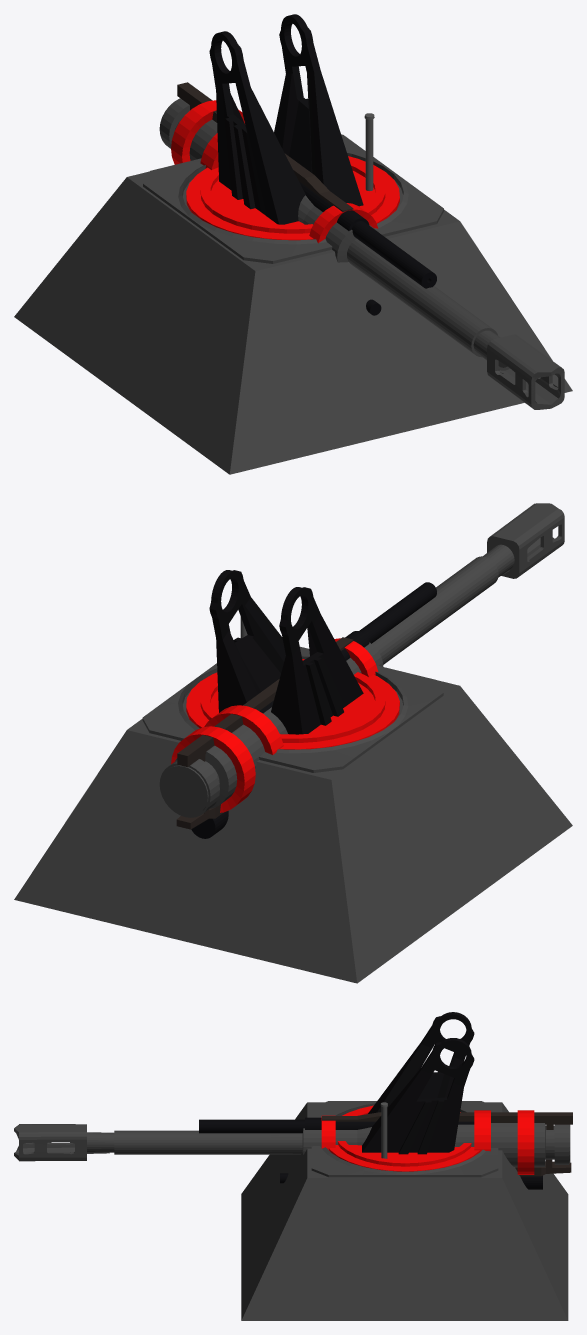
File: Canon.fbx
3 views of the same model, one above another, from view 1: azimuth 30°, elevation 25°; view 2: azimuth 150°, elevation 25°; view 3: azimuth 270°, elevation 25° (orthographic). The views are drawn at different scales.
Visible parts, largest first — view 1: CanonBase, CanonSpiningBase, CanonBarel; view 2: CanonBase, CanonBarel, CanonSpiningBase; view 3: CanonBase, CanonBarel, CanonSpiningBase.
Boxes of the visible parts, x1,y1,x2,y2 form: CanonBase: (14,134,572,474); CanonSpiningBase: (186,14,399,240); CanonBarel: (159,82,564,409); CanonBase: (14,646,572,983); CanonBarel: (159,503,564,838); CanonSpiningBase: (186,570,399,749); CanonBase: (241,1101,568,1320); CanonBarel: (14,1110,572,1189); CanonSpiningBase: (329,1012,479,1171).
Bounding box in the file's own units: 4.64 × 3.94 × 8.64.
